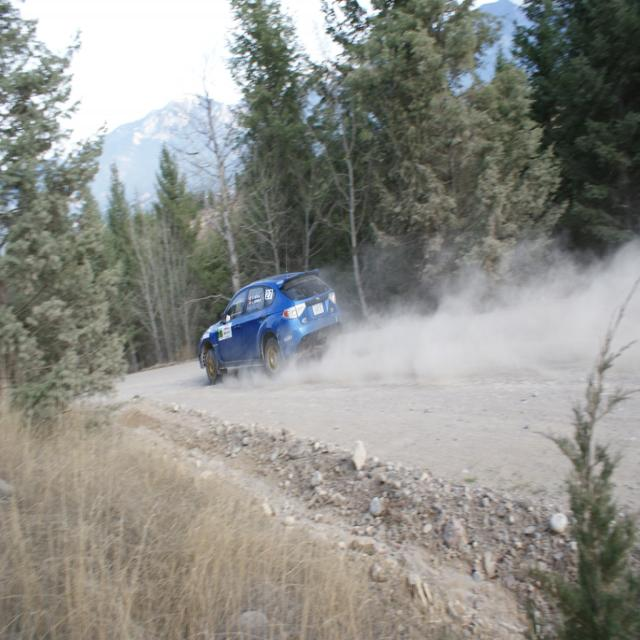other: (194, 257, 343, 381)
